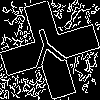Y: (25, 25, 70, 79)
